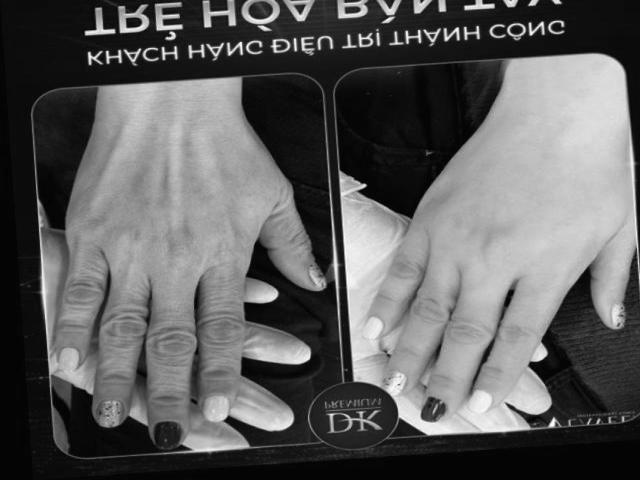not-gloved: (50, 127, 324, 445), (362, 110, 636, 416)
